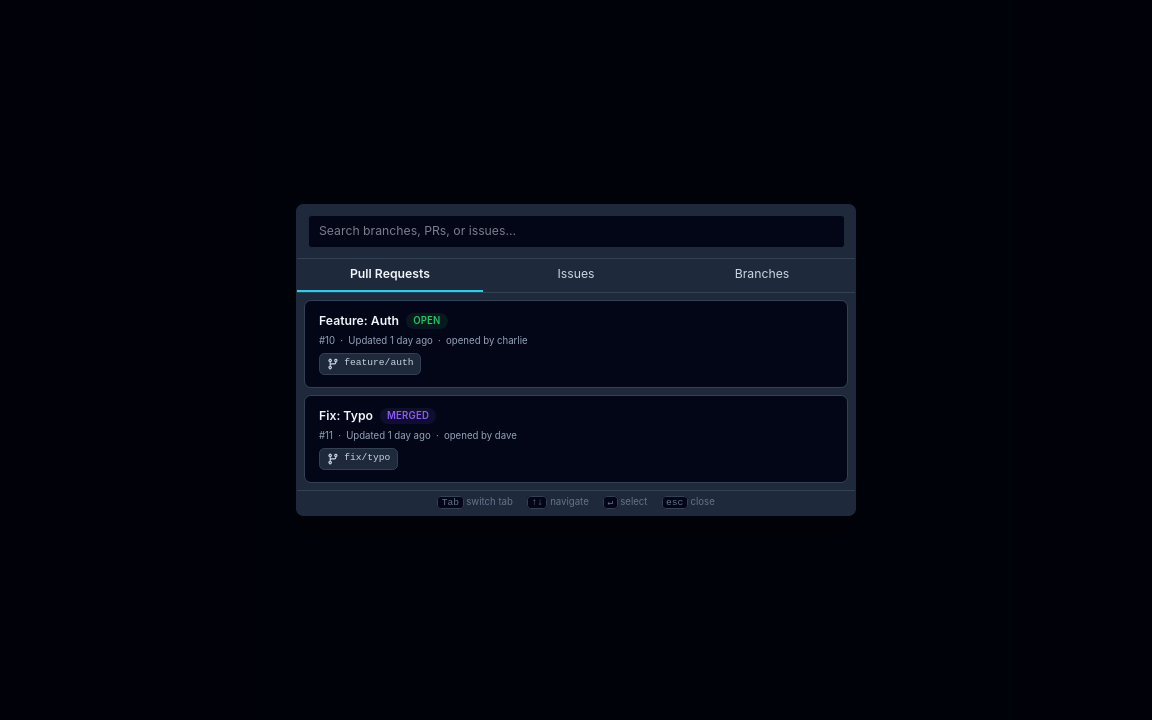
it: UnifiedSearchModal › switches to Branches tab on click
What coordinates should you click on to do the following:
click the button with test id "tab-branches"
I would click on:
 (762, 276)
Its box is [669,259,855,292].
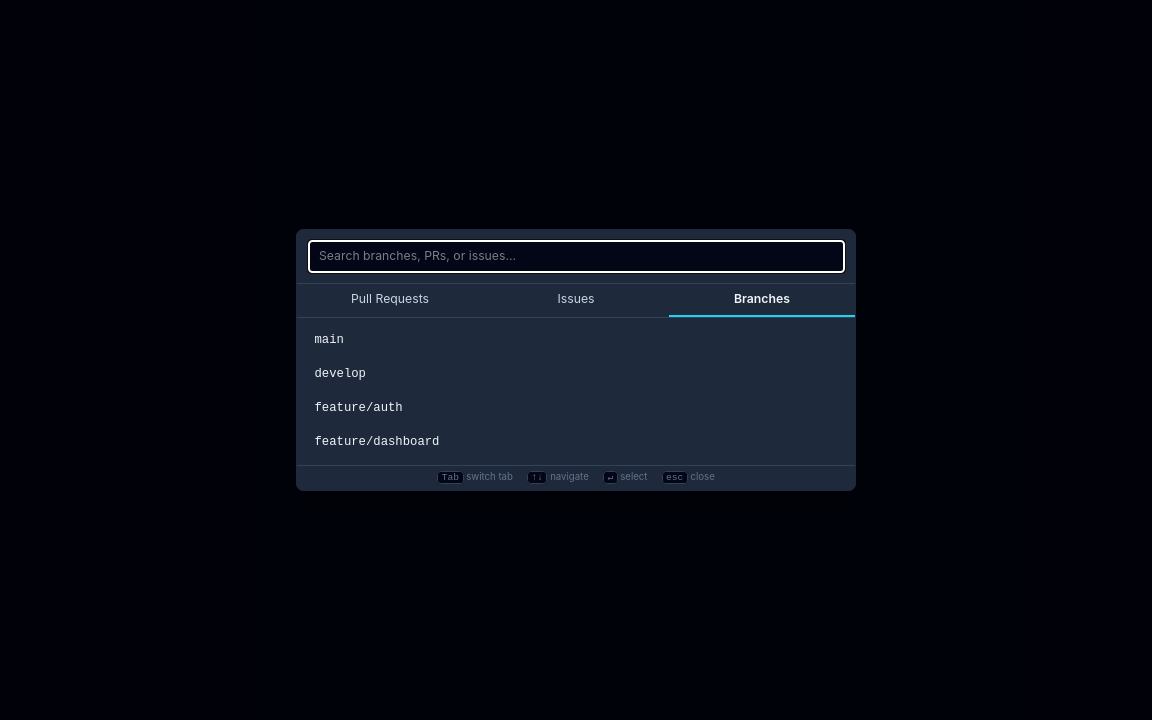
Check: the button "main" is shown, box [304,325,848,356]
